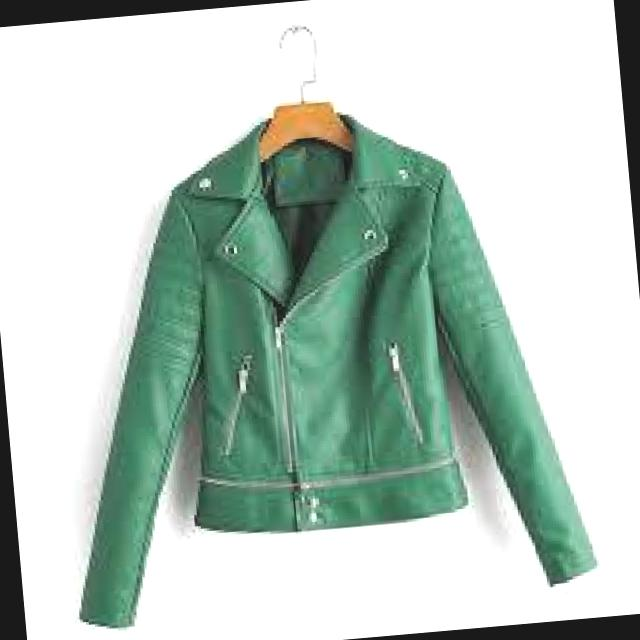jacket: (42, 101, 580, 634)
